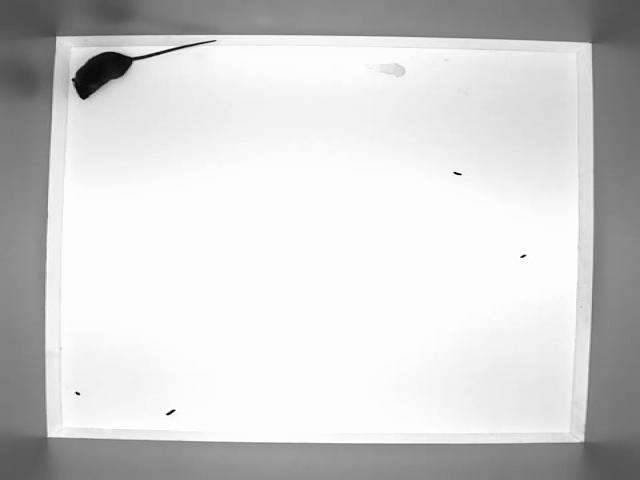Tikus: (70, 34, 223, 102)
